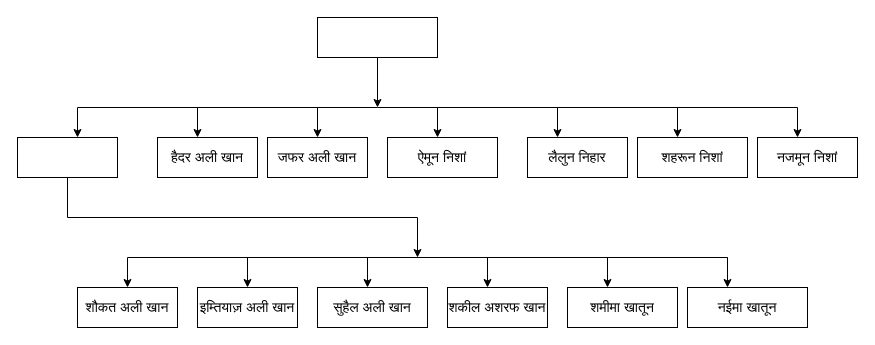
The diagram is 875 pixels wide and 345 high, and some of its shapes have lost their labels. Each missing label, with the centre of its shape:
"गुलाम अली खान" belongs at point 67,157.
"नूर मुहम्मद खान" belongs at point 377,37.
